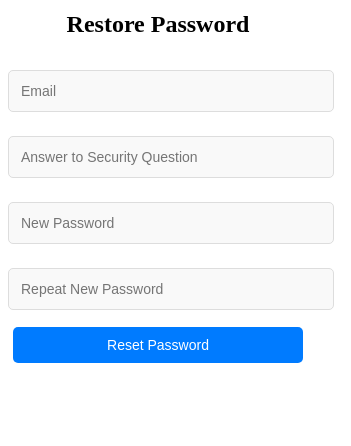
Test: RestoreCredentials Component › shows security question on valid email
Type "test@test.com" into the field with test id "email-input" at (171, 91), box [8,70,334,112]
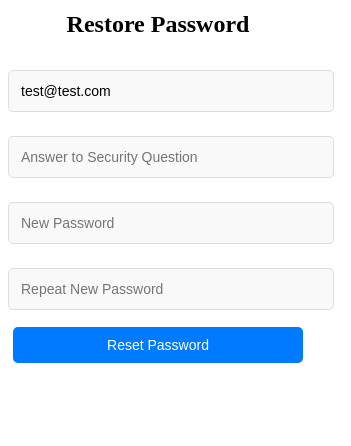
Leave the field with test id "email-input", box [8,70,334,112]
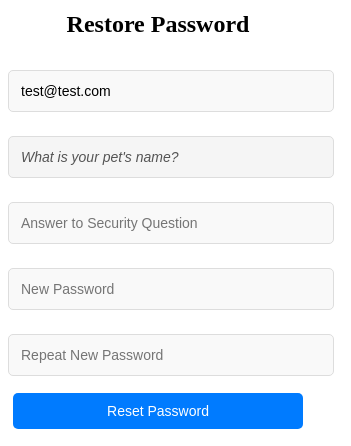
Result: the 2nd field showing "What is your pet's name?" is shown at [8,136,334,178]
